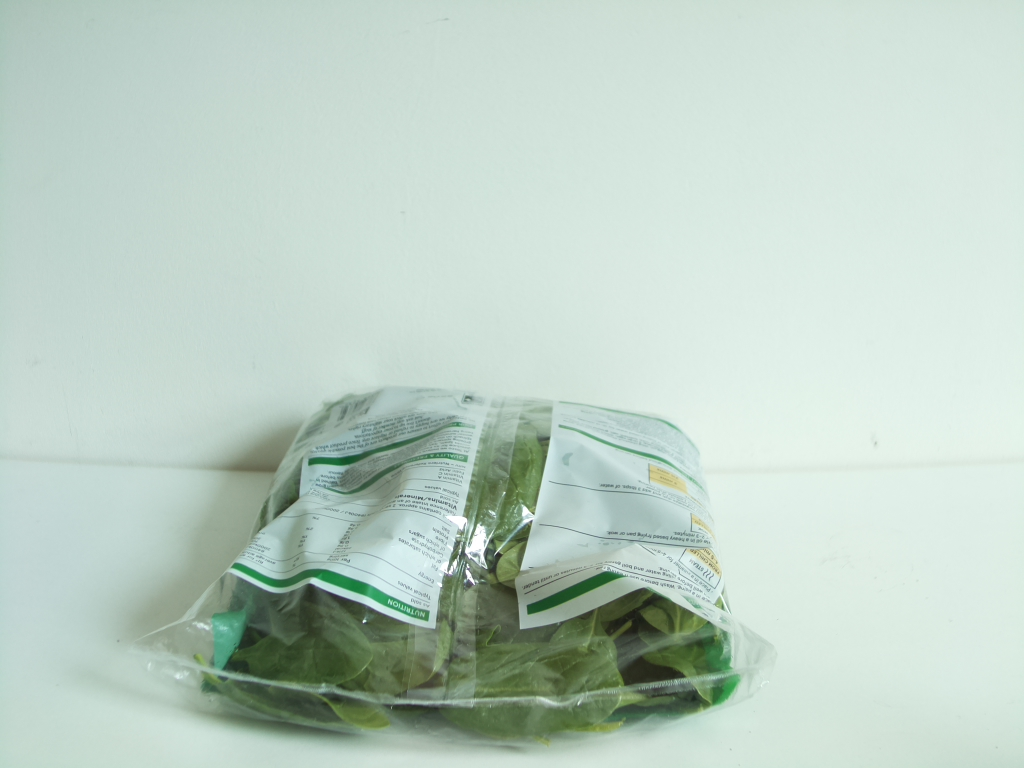salad: (194, 387, 733, 745)
